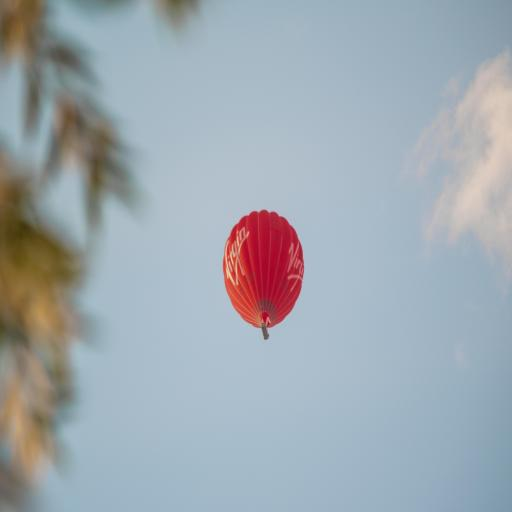hot air ballon: (223, 209, 304, 340)
